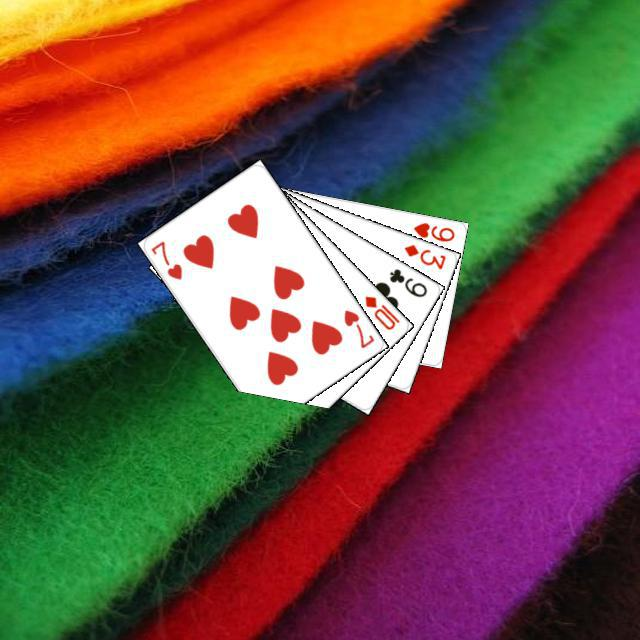10d: (360, 291, 401, 332)
3d: (399, 239, 447, 271)
7h: (146, 236, 184, 282), (339, 305, 376, 350)
9c: (384, 264, 429, 299)
9h: (408, 218, 456, 243)
